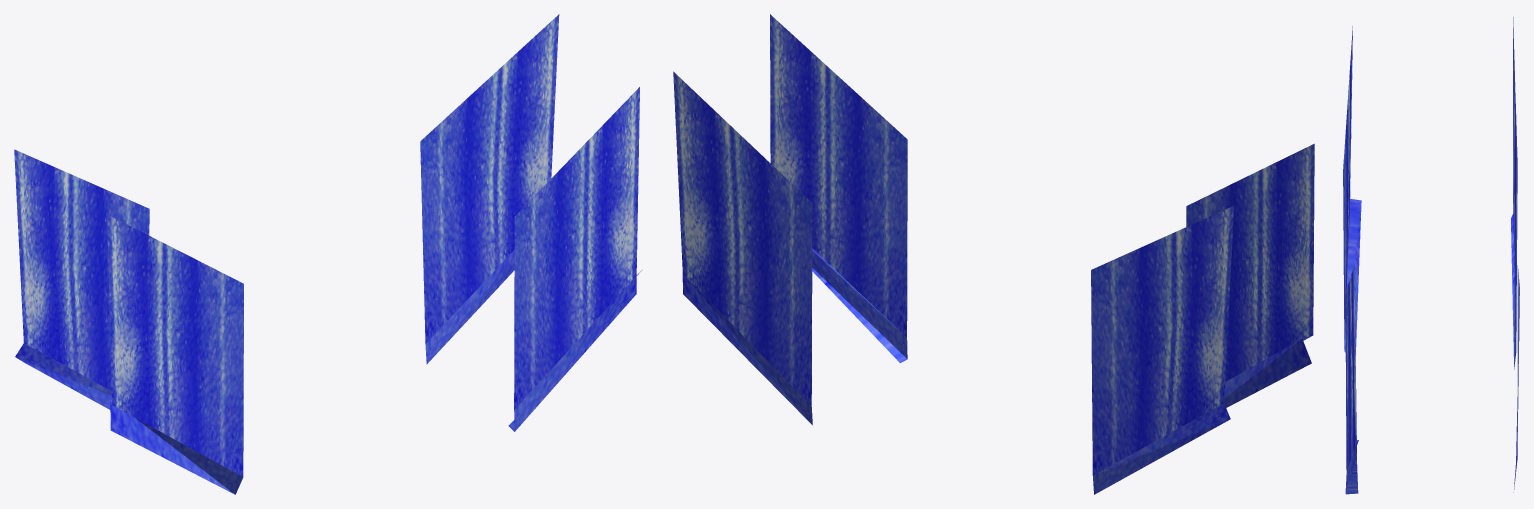
3 views of the same model, side by side, from view 1: azimuth 30°, elevation 25°; view 2: azimuth 150°, elevation 25°; view 3: azimuth 270°, elevation 25° (orthographic). The views are drawn at different scales.
Size of the model in its own units: 0.5375 by 0.2972 by 0.1618.
1 material, 1 textured.
